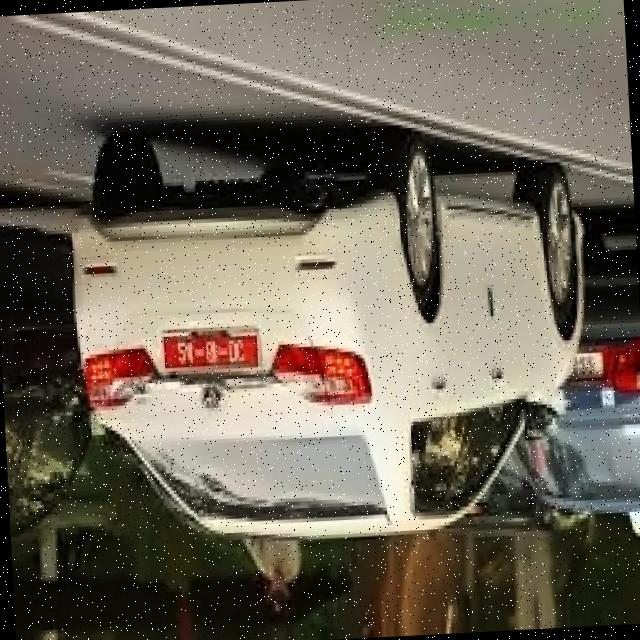License_Plate: (163, 330, 263, 374)
car: (65, 99, 615, 557)
